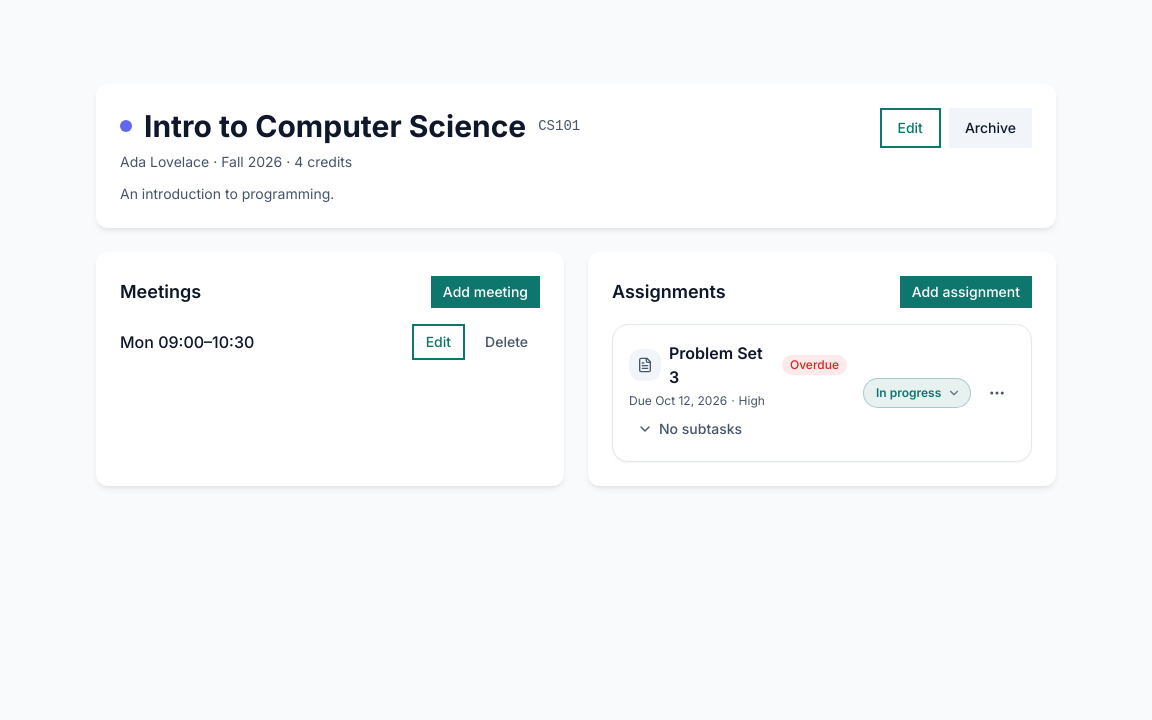
Test: CourseDetailPage page states (AC 1/5, DoD 5) › creates in route context, closes and announces success, then refreshes assignments in the background
The image size is (1152, 720).
Click the button "Add assignment". click: (966, 292)
box: [900,276,1032,308]
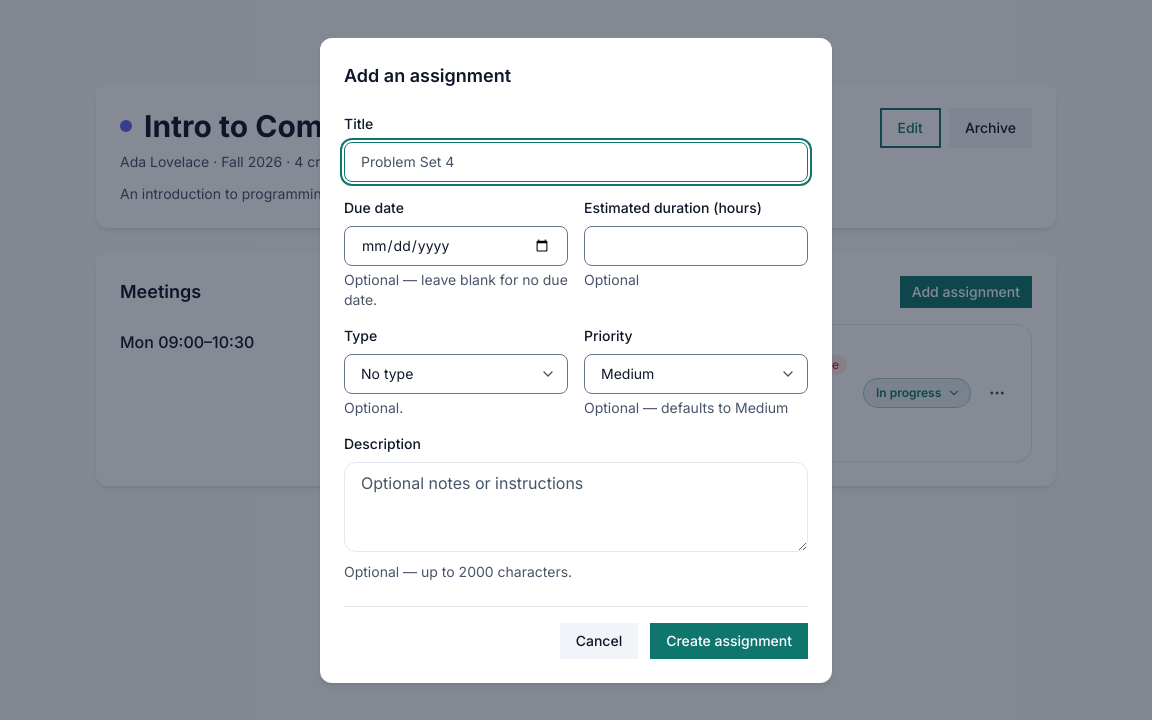
Type "New homework" into the field labelled "Title". click: (576, 162)
box: [344,142,808,182]
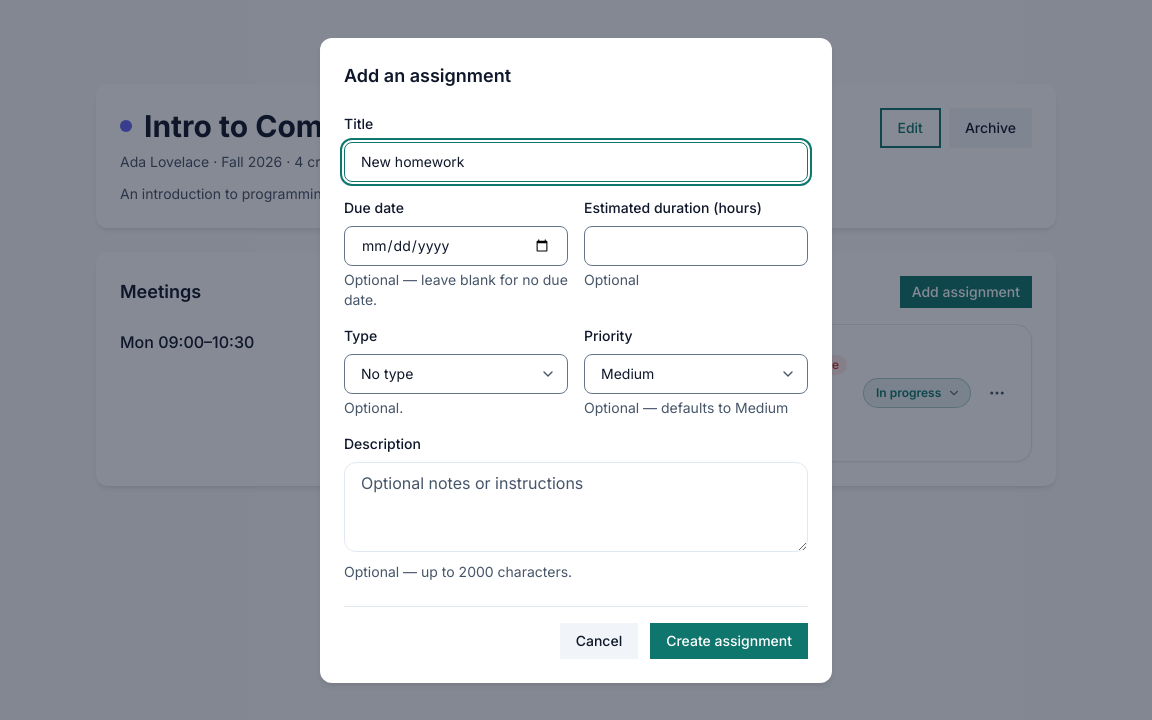
Click the button "Create assignment". click: (729, 640)
box: [650,622,808,658]
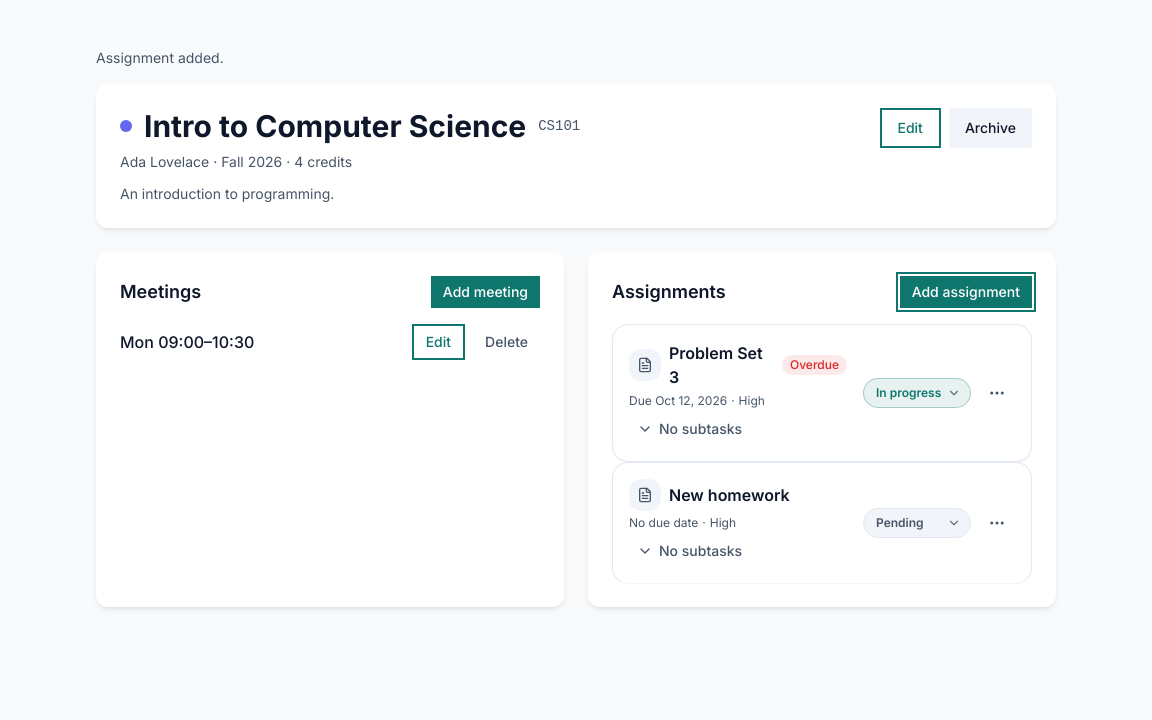
Result: the dialog is gone
Result: the message reads "Assignment added." at [96,49,224,66]
Result: the button "New homework" is shown at [669,483,790,507]
